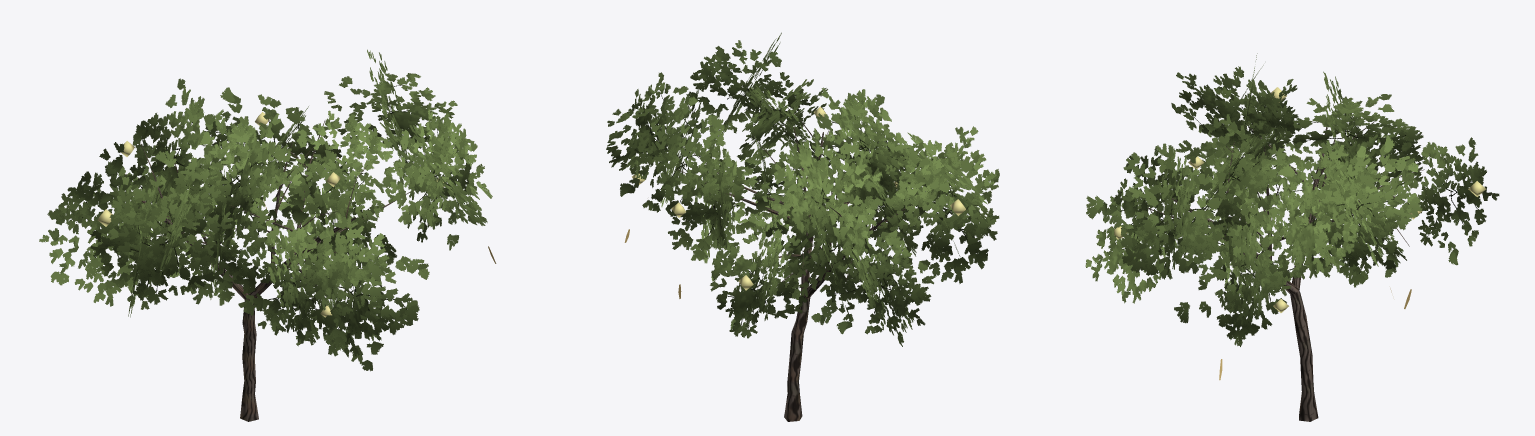
The model's file is young-c.lod1.glb.
3 views of the same model, side by side, from view 1: azimuth 30°, elevation 25°; view 2: azimuth 150°, elevation 25°; view 3: azimuth 270°, elevation 25° (orthographic). The views are drawn at different scales.
Visible parts, largest first — view 1: foliage, bark, flowers; view 2: foliage, bark, flowers; view 3: foliage, bark, flowers.
Boxes of the visible parts, bbox=[...] form: foliage: bbox=[39, 49, 492, 371]; bark: bbox=[125, 120, 410, 421]; flowers: bbox=[97, 112, 443, 317]; foliage: bbox=[606, 32, 999, 346]; bark: bbox=[676, 108, 912, 421]; flowers: bbox=[632, 107, 965, 290]; foliage: bbox=[1085, 53, 1499, 346]; bark: bbox=[1147, 121, 1424, 421]; flowers: bbox=[1114, 87, 1485, 312].
Size of the model in its own units: 4.79 by 3.8 by 4.4.
4 materials, 2 textured.
